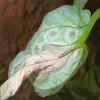Tomato leaf late blight: (2, 6, 92, 96)
